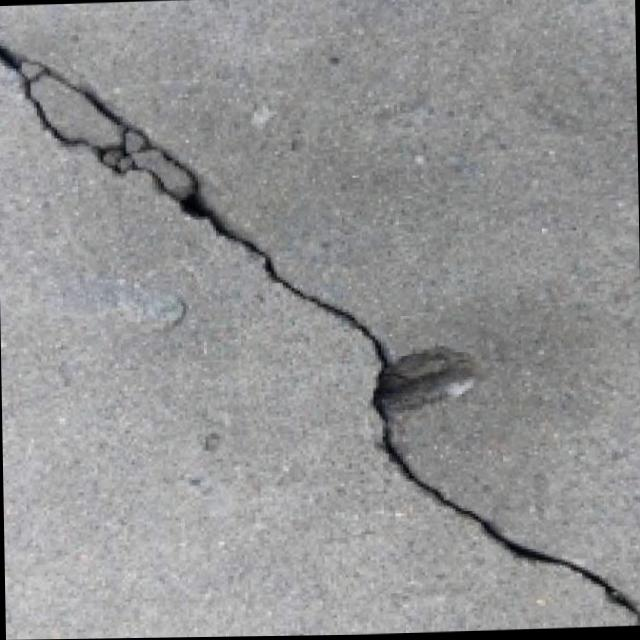Crack: (0, 27, 640, 640)
